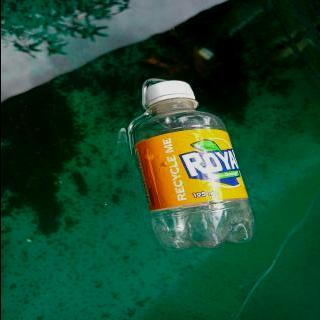bottle: (124, 79, 258, 256)
